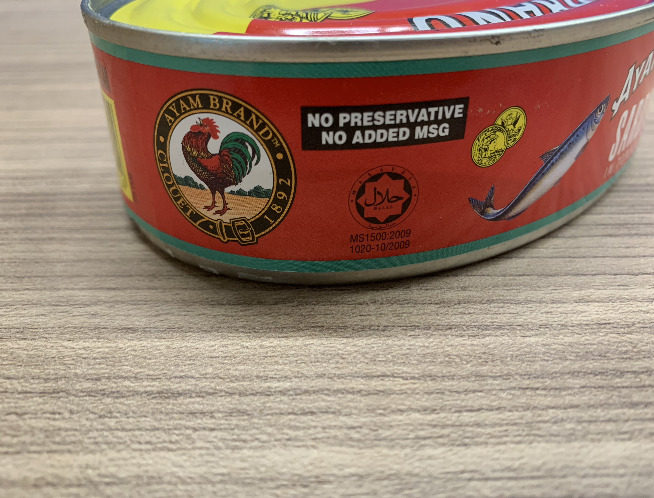halal: (363, 174, 406, 216)
